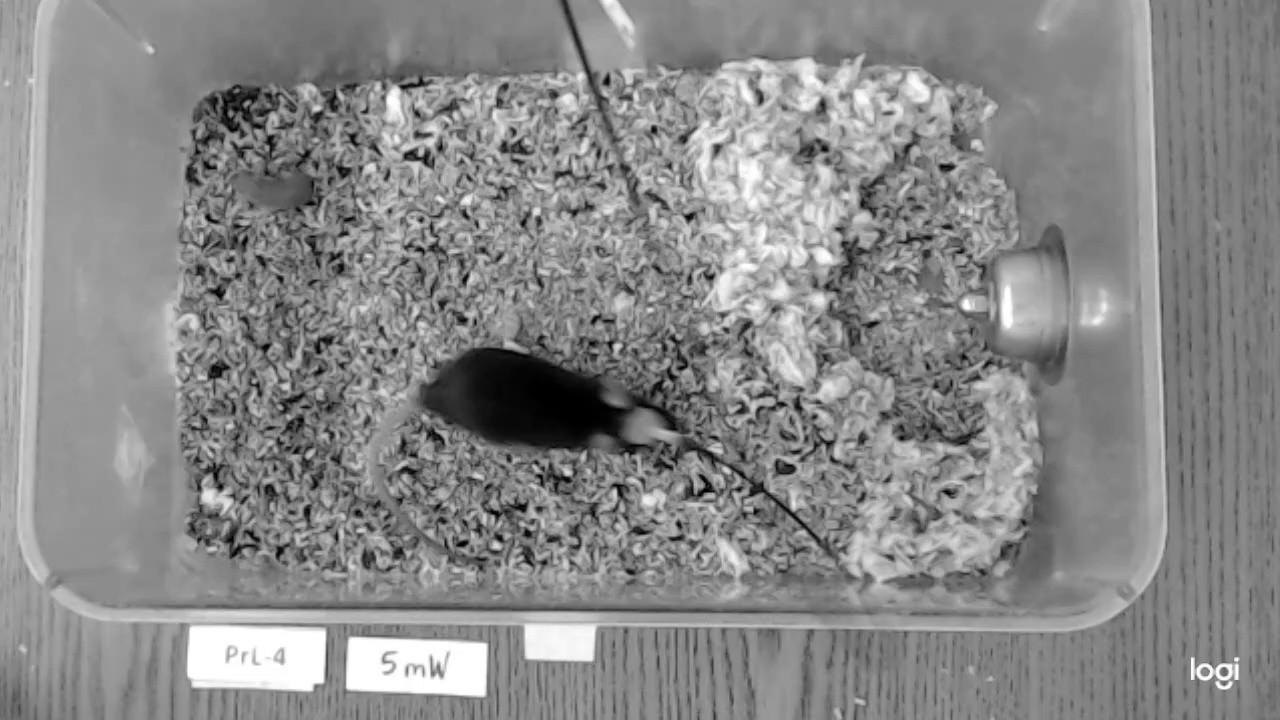child-mice: (232, 169, 314, 210)
